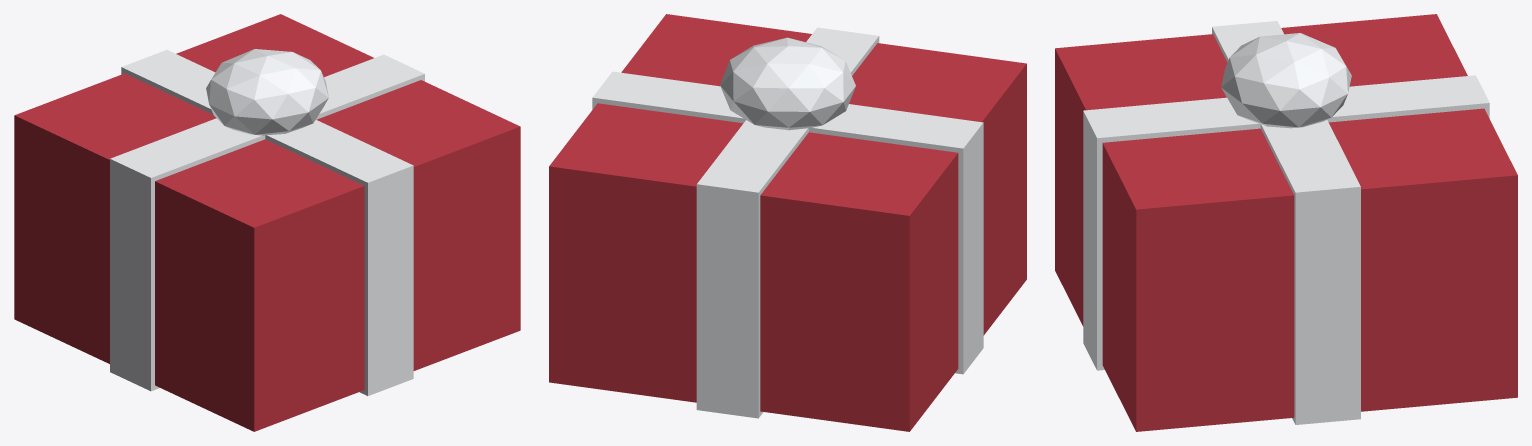
The model's file is Gift.glb.
The picture shows the model from 3 angles, left to right: view 1: azimuth 30°, elevation 25°; view 2: azimuth 150°, elevation 25°; view 3: azimuth 270°, elevation 25°; orthographic projection. The views are drawn at different scales.
Parts seen in each view (by area): view 1: GiftBox, GiftRibbonY, GiftRibbonX, GiftBow; view 2: GiftBox, GiftRibbonY, GiftRibbonX, GiftBow; view 3: GiftBox, GiftRibbonX, GiftRibbonY, GiftBow.
Part boxes in pixels (<box>): GiftBox: <box>14,14,520,431</box>; GiftRibbonY: <box>121,50,413,395</box>; GiftRibbonX: <box>110,54,424,391</box>; GiftBow: <box>206,49,328,135</box>; GiftBox: <box>549,14,1026,431</box>; GiftRibbonY: <box>696,27,879,418</box>; GiftRibbonX: <box>592,71,983,374</box>; GiftBow: <box>720,37,855,130</box>; GiftBox: <box>1055,14,1517,431</box>; GiftRibbonX: <box>1212,21,1360,424</box>; GiftRibbonY: <box>1083,75,1489,370</box>; GiftBow: <box>1221,33,1351,128</box>.
Bounding box in the file's own units: 0.8302 × 0.59 × 0.8302.
